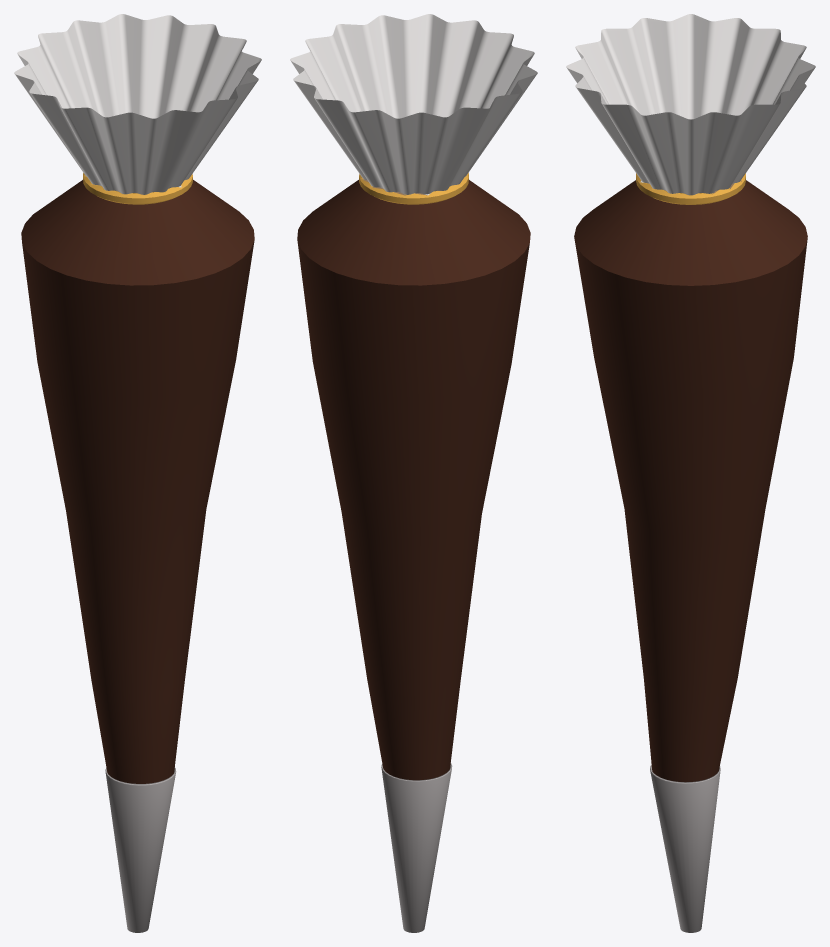
The model's file is coklat.fbx.
3 renders of one model, left to right at view 1: azimuth 30°, elevation 25°; view 2: azimuth 150°, elevation 25°; view 3: azimuth 270°, elevation 25°, orthographic.
Visible parts, largest first — view 1: Cylinder.001, Cylinder.002; view 2: Cylinder.001, Cylinder.002; view 3: Cylinder.001, Cylinder.002.
Part boxes in pixels (<box>): Cylinder.001: <box>14,14,261,783</box>; Cylinder.002: <box>105,767,176,932</box>; Cylinder.001: <box>290,14,537,780</box>; Cylinder.002: <box>381,763,452,932</box>; Cylinder.001: <box>566,14,815,782</box>; Cylinder.002: <box>650,765,720,932</box>.
Size of the model in its own units: 111 by 421 by 111.
Materials: 1 (1 with a texture image).
